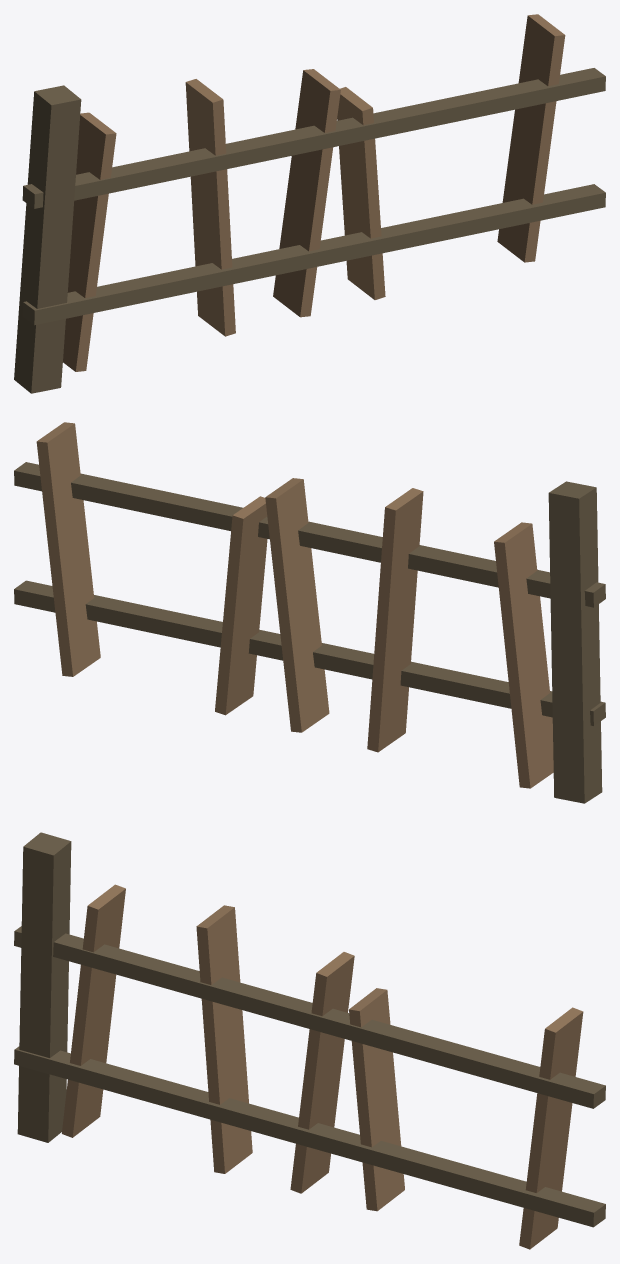
Rendered from ua_valley_fence_broken_0.obj.
3 renders of one model, top to bottom at view 1: azimuth 30°, elevation 25°; view 2: azimuth 150°, elevation 25°; view 3: azimuth 330°, elevation 25°, orthographic.
Parts seen in each view (by area): view 1: ua_valley_fence_broken_0; view 2: ua_valley_fence_broken_0; view 3: ua_valley_fence_broken_0.
Part boxes in pixels (box(x1,y1,x2,y2)): ua_valley_fence_broken_0: box(14, 14, 605, 393); ua_valley_fence_broken_0: box(14, 422, 605, 803); ua_valley_fence_broken_0: box(14, 832, 605, 1249).
Size of the model in its own units: 2.67 by 1.31 by 0.2751.
